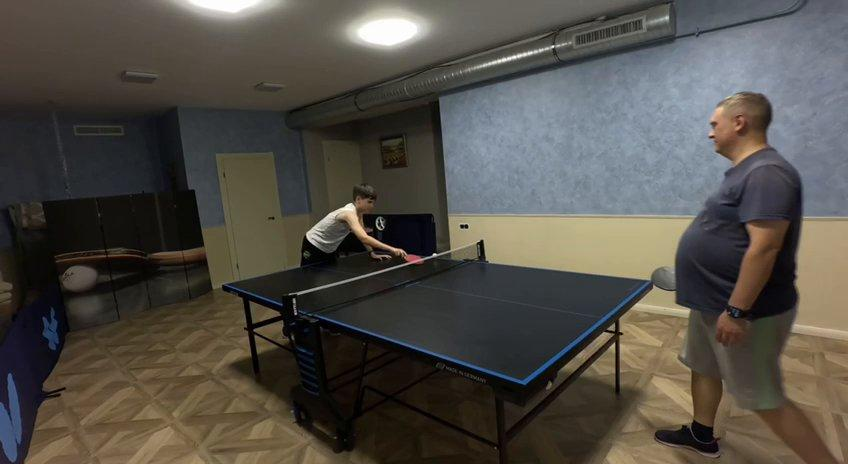Ball: (427, 250, 441, 261)
Net: (283, 241, 485, 327)
Player1: (300, 184, 383, 265)
Player2: (655, 93, 838, 463)
Table: (224, 252, 650, 384)
